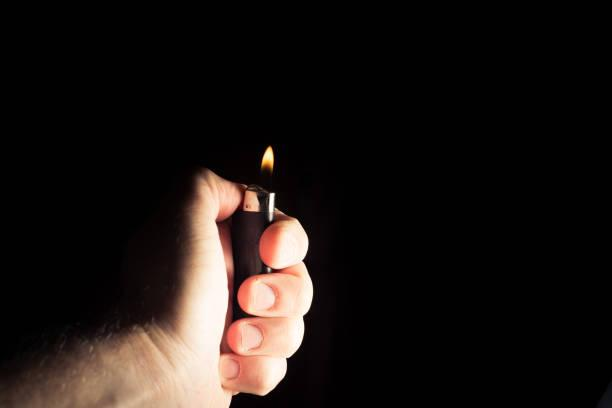Fire: (257, 144, 280, 175)
